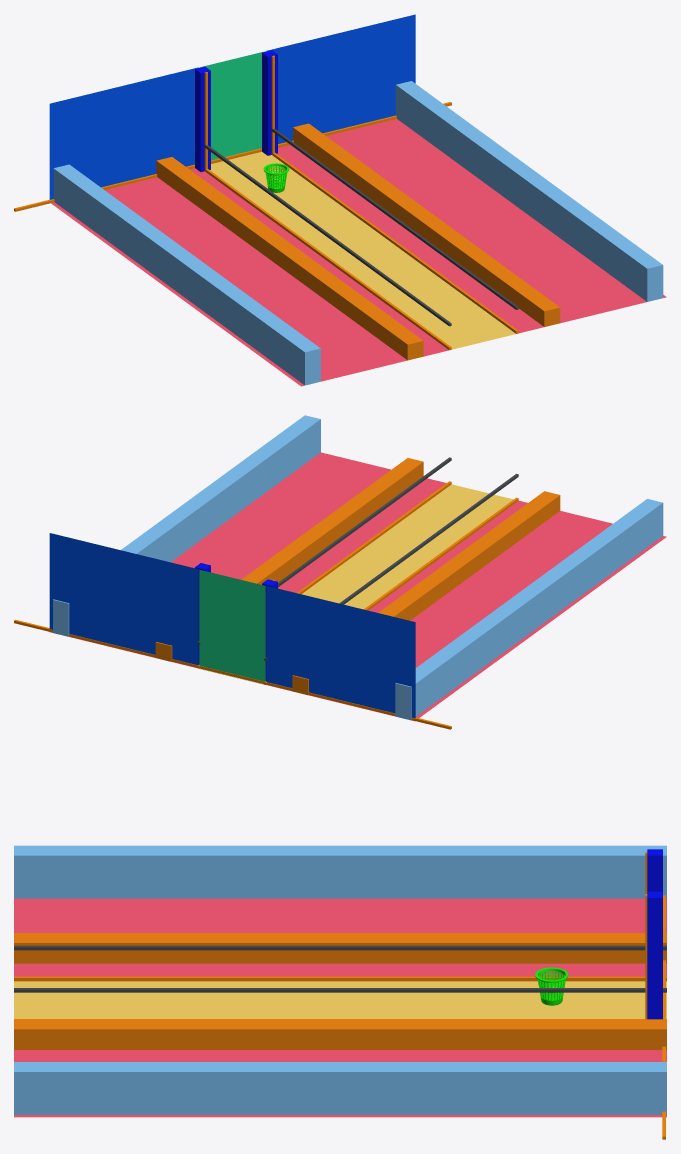
File: Bottle Flip Static Env.FBX
3 views of the same model, one above another, from view 1: azimuth 30°, elevation 25°; view 2: azimuth 150°, elevation 25°; view 3: azimuth 270°, elevation 25° (orthographic). The views are drawn at different scales.
Visible parts, largest first — view 1: Raod, Road Boader Upper005, Road Boader Lower004, Road Boader Upper003, Road Boader Lower002, Basket; view 2: Raod, Road Boader Upper005, Road Boader Lower004, Road Boader Upper003, Road Boader Lower002; view 3: Raod, Road Boader Lower004, Road Boader Upper005, Road Boader Upper003, Road Boader Lower002, Basket.
Boxes of the visible parts, bbox=[...] form: Raod: bbox=[14, 14, 666, 386]; Road Boader Upper005: bbox=[156, 157, 423, 360]; Road Boader Lower004: bbox=[293, 123, 560, 326]; Road Boader Upper003: bbox=[204, 145, 451, 326]; Road Boader Lower002: bbox=[271, 128, 518, 309]; Basket: bbox=[263, 163, 289, 192]; Raod: bbox=[14, 415, 666, 729]; Road Boader Upper005: bbox=[292, 491, 560, 695]; Road Boader Lower004: bbox=[155, 458, 423, 661]; Road Boader Upper003: bbox=[264, 473, 518, 661]; Road Boader Lower002: bbox=[197, 457, 451, 644]; Raod: bbox=[14, 845, 666, 1139]; Road Boader Lower004: bbox=[14, 1019, 666, 1049]; Road Boader Upper005: bbox=[14, 933, 666, 963]; Road Boader Upper003: bbox=[14, 945, 666, 950]; Road Boader Lower002: bbox=[14, 988, 666, 992]; Basket: bbox=[535, 967, 568, 1005].
Size of the model in its own units: 550 by 120 by 550.
